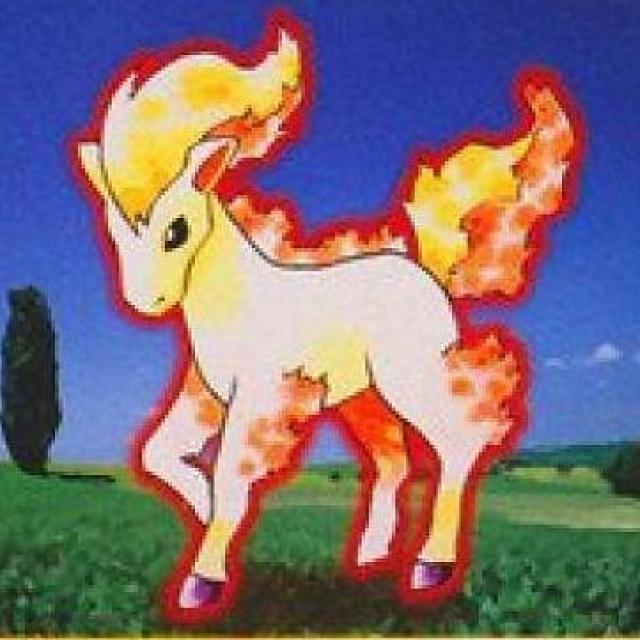Ponyta: (90, 28, 518, 624)
